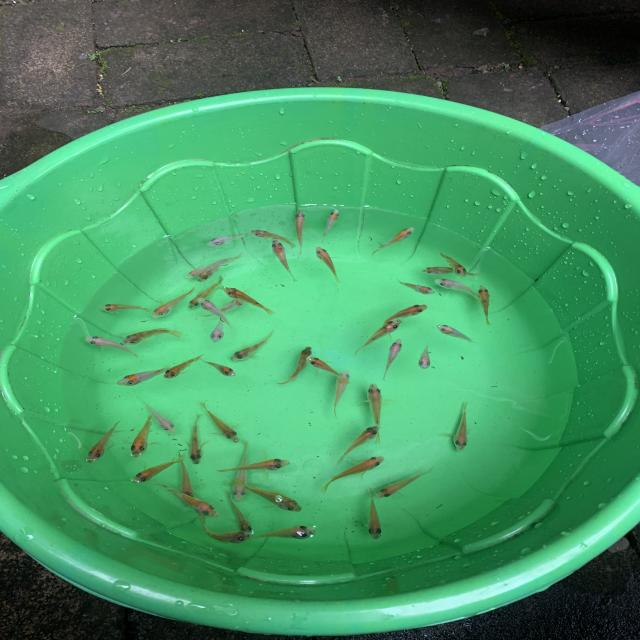nila: (231, 474, 308, 514), (318, 454, 391, 494), (156, 478, 226, 519), (349, 316, 406, 361), (334, 420, 384, 468), (218, 488, 261, 539), (196, 401, 243, 445), (264, 235, 303, 288), (111, 325, 190, 351), (248, 521, 323, 548), (376, 466, 435, 500), (191, 514, 253, 546), (378, 301, 432, 336), (83, 418, 124, 464), (221, 282, 276, 316), (112, 360, 174, 390), (129, 454, 188, 485), (171, 448, 198, 514), (364, 381, 393, 442), (231, 439, 257, 506), (276, 345, 316, 388), (214, 454, 295, 475), (228, 328, 278, 362), (151, 284, 200, 318), (196, 251, 248, 283), (363, 488, 390, 549), (138, 395, 180, 434), (368, 226, 416, 260), (82, 334, 144, 359), (431, 275, 486, 303), (160, 352, 210, 382), (194, 295, 255, 319), (130, 409, 159, 459), (188, 273, 228, 309), (325, 369, 353, 420), (432, 318, 482, 346), (311, 245, 344, 287), (306, 353, 348, 386), (379, 337, 409, 383), (452, 400, 479, 451), (194, 295, 235, 327), (202, 228, 260, 250), (250, 228, 305, 249), (318, 206, 347, 243), (186, 412, 205, 468), (474, 280, 495, 328), (292, 206, 309, 257), (179, 260, 222, 280), (205, 311, 230, 345), (437, 250, 467, 278), (198, 356, 238, 377), (393, 278, 438, 296), (98, 302, 160, 315), (413, 266, 483, 276), (416, 343, 436, 371)
